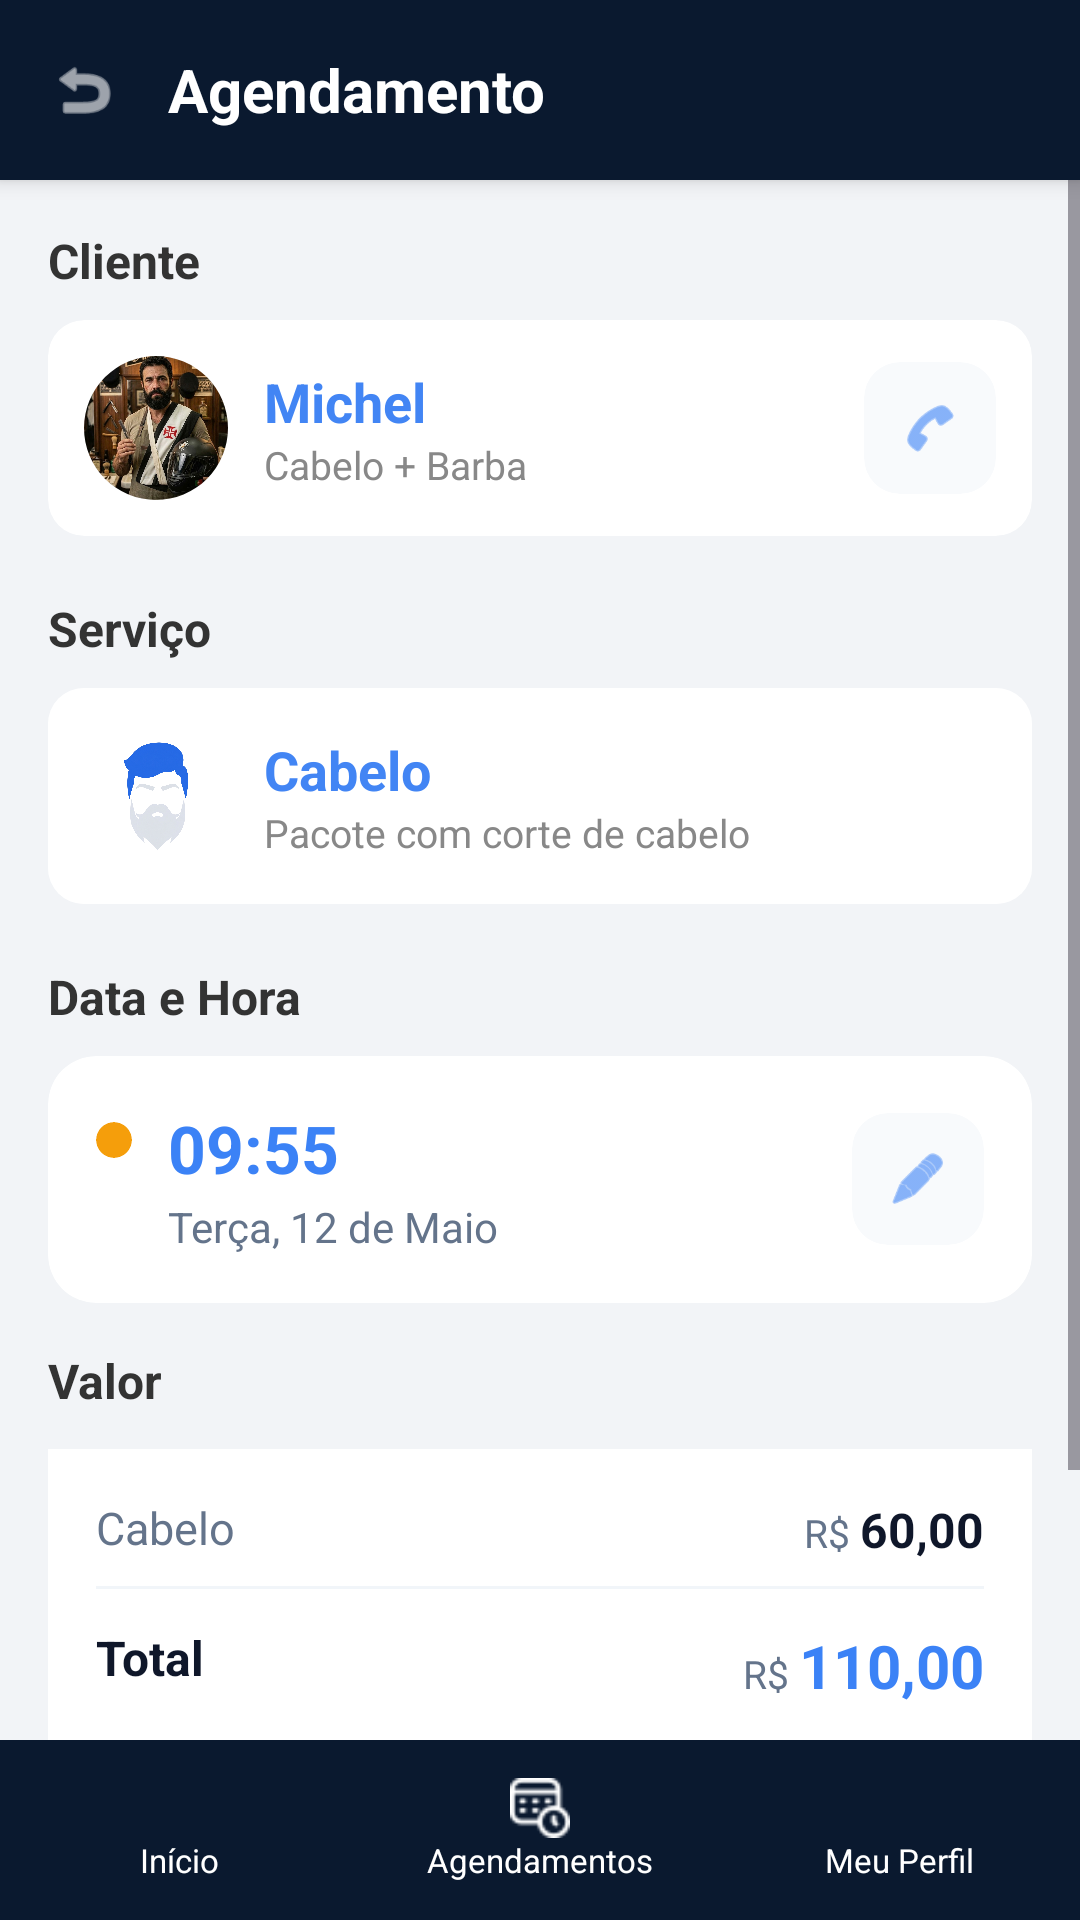

Named icons in this screenshot (1080*1920) and their bounding boxes, bbox(x1, y1, x2, y2):
Editar Data e Hora: bbox(892, 1153, 943, 1204)
Entrar em contato com o cliente: bbox(907, 405, 954, 452)
Voltar: bbox(59, 67, 111, 114)
